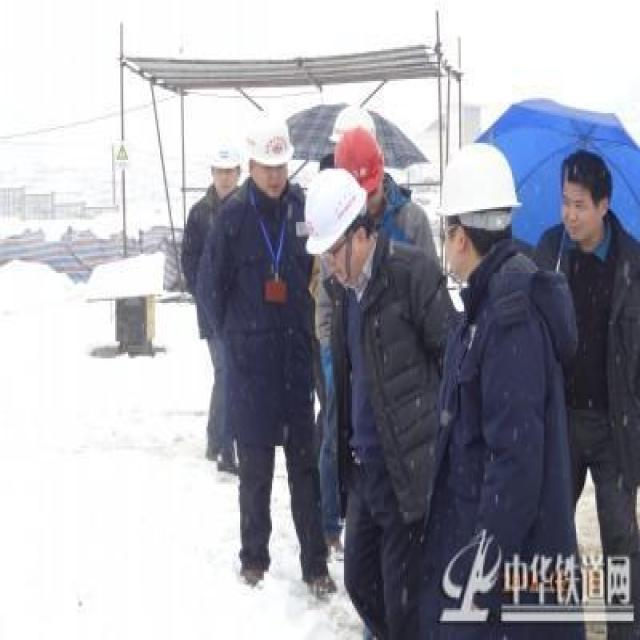helmet: (435, 134, 523, 278), (301, 150, 376, 280), (333, 117, 390, 218), (247, 113, 294, 194), (203, 126, 250, 203)
no-helmet: (555, 145, 618, 252)
